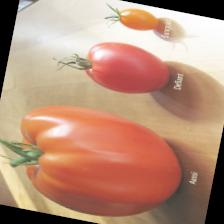tomato: (0, 94, 191, 224), (50, 30, 176, 102), (102, 1, 162, 38)
